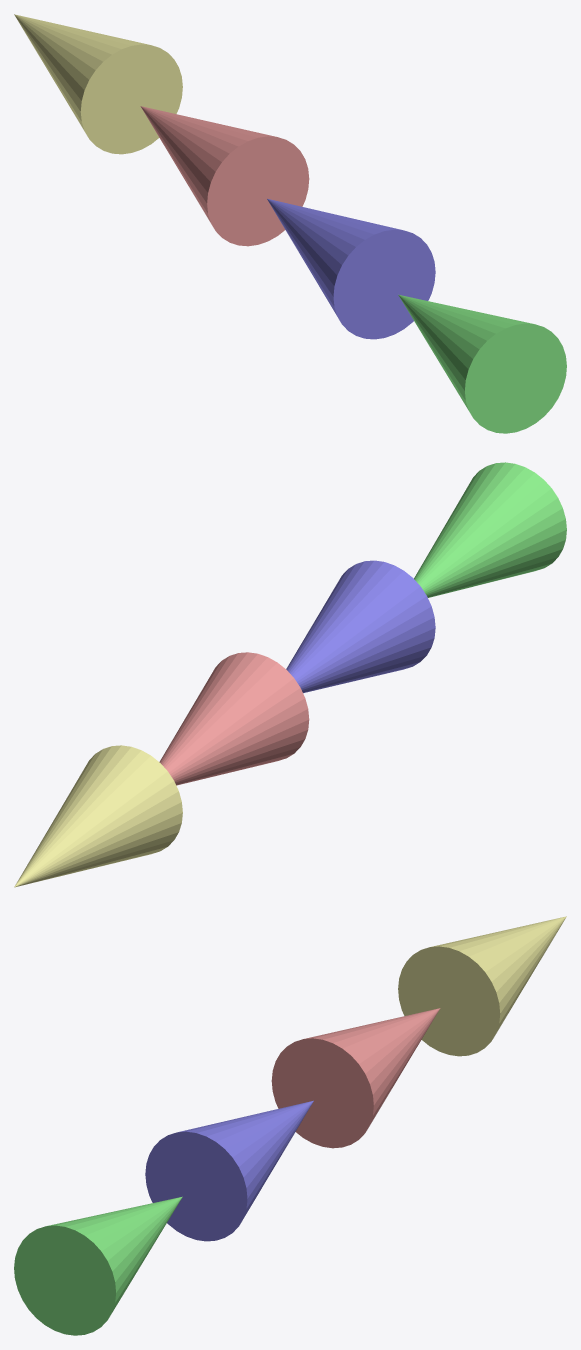
Rendered from sausage4.dae.
3 views of the same model, one above another, from view 1: azimuth 30°, elevation 25°; view 2: azimuth 150°, elevation 25°; view 3: azimuth 330°, elevation 25° (orthographic).
Parts seen in each view (by area): view 1: Cone0, Cone1, Cone2, Cone3; view 2: Cone3, Cone0, Cone2, Cone1; view 3: Cone0, Cone1, Cone2, Cone3.
Part boxes in pixels (x1,y1,x2,y2): Cone0: [398, 294, 566, 433]; Cone1: [267, 198, 435, 339]; Cone2: [140, 106, 309, 246]; Cone3: [14, 14, 182, 154]; Cone3: [14, 745, 182, 887]; Cone0: [414, 462, 566, 597]; Cone2: [159, 652, 309, 785]; Cone1: [286, 560, 435, 693]; Cone0: [14, 1196, 182, 1335]; Cone1: [145, 1100, 313, 1241]; Cone2: [271, 1008, 440, 1148]; Cone3: [398, 916, 566, 1056].
Size of the model in its own units: 0.2002 by 1.7 by 0.2041.
